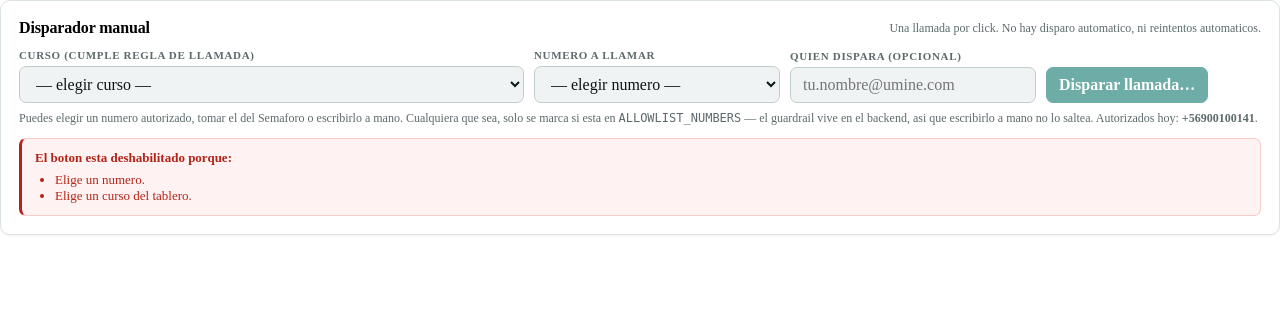
Test: Disparador — numero: desplegable, del Semaforo, o escrito a mano › un numero con formato invalido bloquea el boton con esa razon
Select "Escribir otro numero a mano…" in the dropdown labelled "Numero a llamar": coordinates (657, 84) [534,66,780,103]
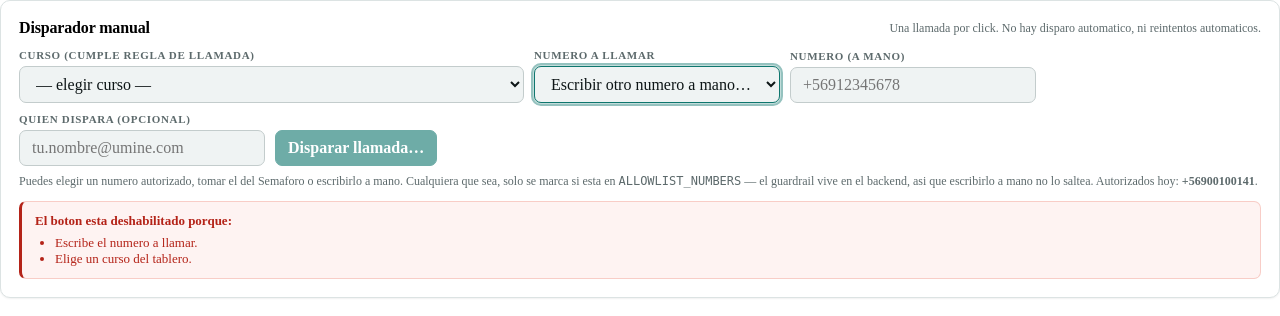
In the field labelled "Numero (a mano)": coordinates (913, 85) [790,67,1036,103], type "12345"
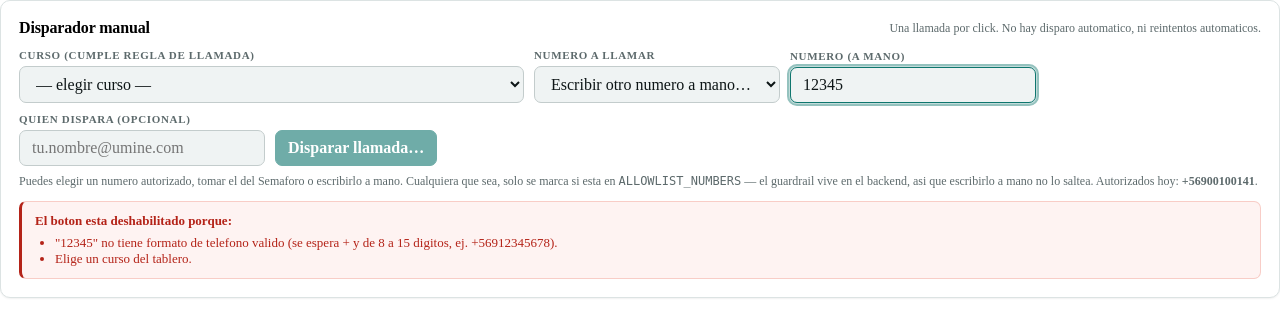
Expected: the button "Disparar llamada…" is disabled, [275,130,437,166]
Expected: the list item "no tiene formato de telefono valido" is shown, [55,235,558,250]
